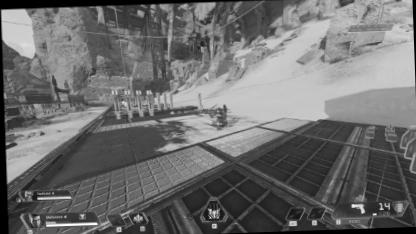Target: (207, 105, 229, 132)
